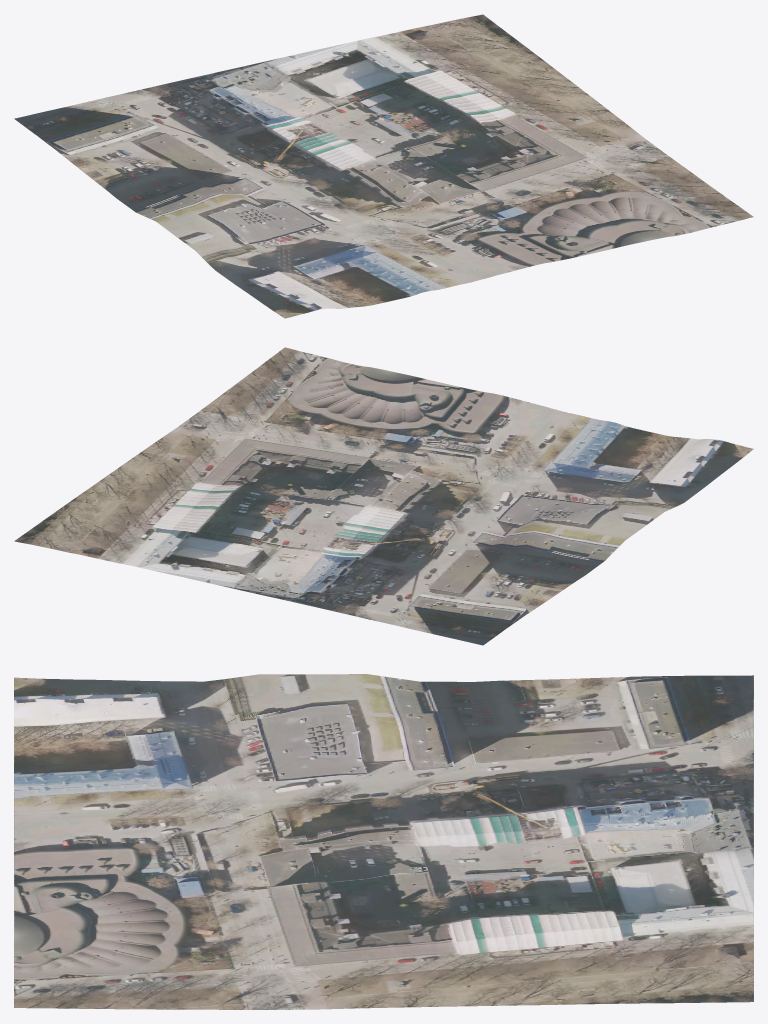
The model's file is CM_Terrain_24486568_6821022.fbx.
The picture shows the model from 3 angles, top to bottom: view 1: azimuth 30°, elevation 25°; view 2: azimuth 150°, elevation 25°; view 3: azimuth 270°, elevation 25°; orthographic projection. The views are drawn at different scales.
Visible parts, largest first — view 1: CM_Terrain_24486568_6821022_LOD0; view 2: CM_Terrain_24486568_6821022_LOD0; view 3: CM_Terrain_24486568_6821022_LOD0.
Boxes of the visible parts, left/top/right/bottom form: CM_Terrain_24486568_6821022_LOD0: left=14, top=14, right=753, bottom=318; CM_Terrain_24486568_6821022_LOD0: left=14, top=347, right=753, bottom=645; CM_Terrain_24486568_6821022_LOD0: left=14, top=674, right=753, bottom=1009.
Size of what is drawn, in the model's own units: 205 by 7.16 by 205.
